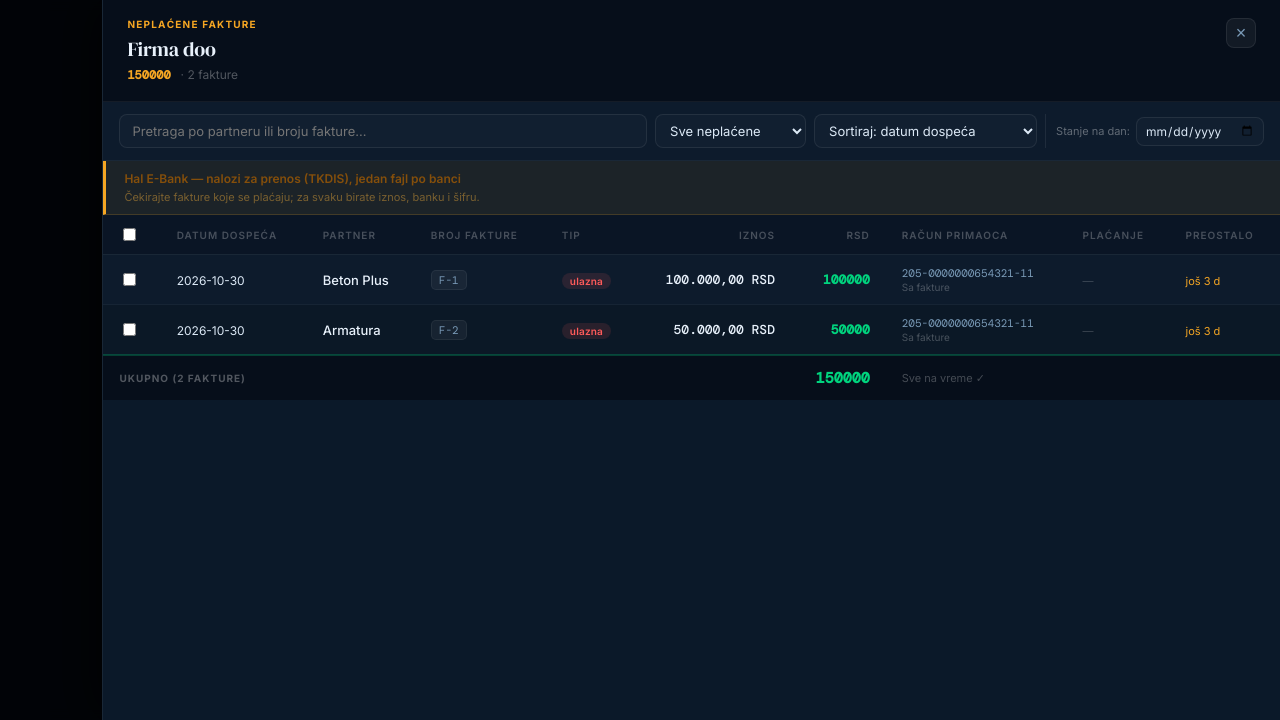
it: the unpaid-bills panel, extended › starts a new line at what is owed less what is reserved elsewhere
Check: the text "Beton Plus" is shown, box [323,272,389,288]
Click the checkbox named "Plati F-2": point(130, 330) [123,323,136,336]
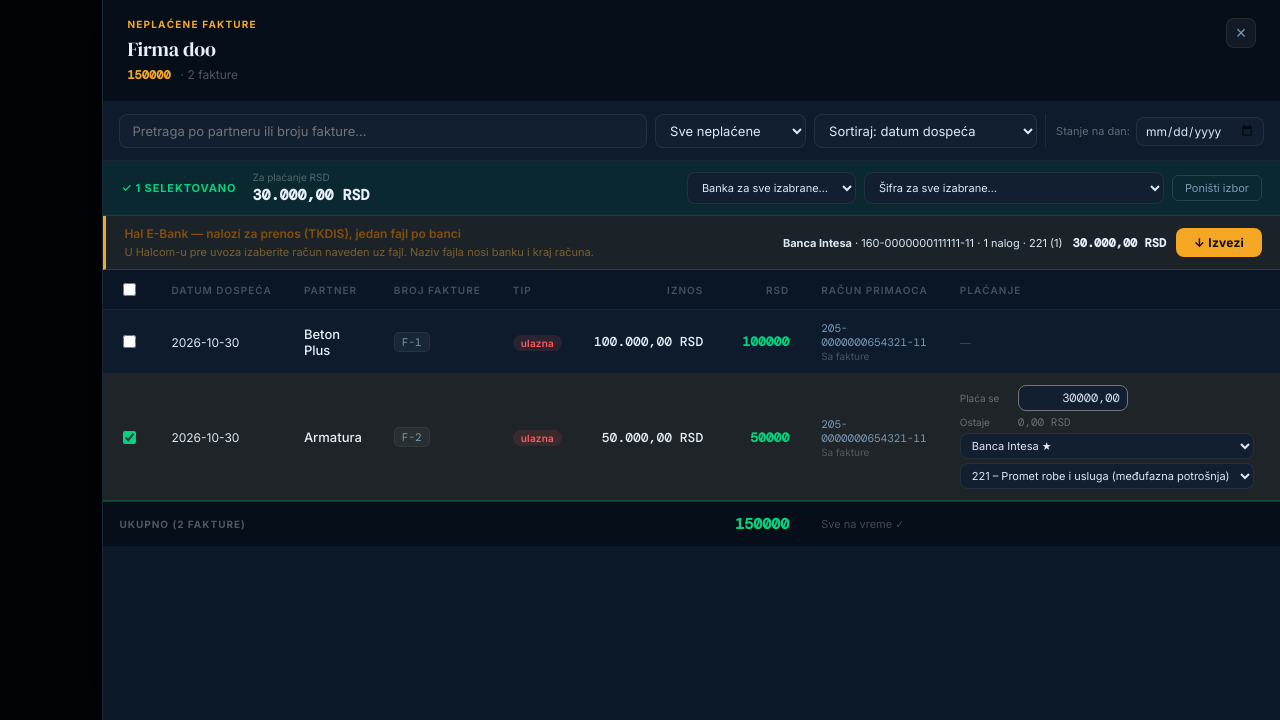
Check: the field named "Iznos za plaćanje F-2" holds "30000,00", box [1018,385,1128,411]
